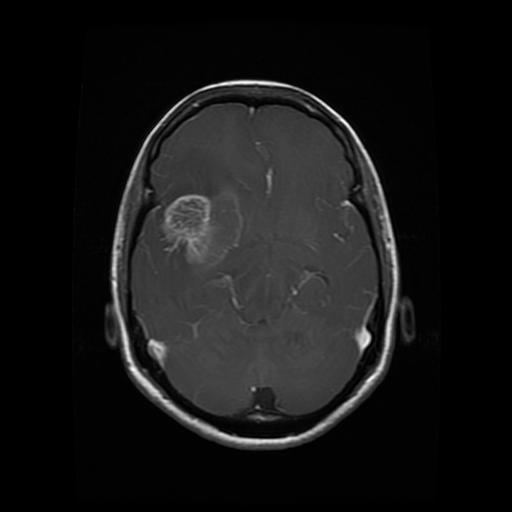Gliomia_tumour: (160, 186, 243, 267)
